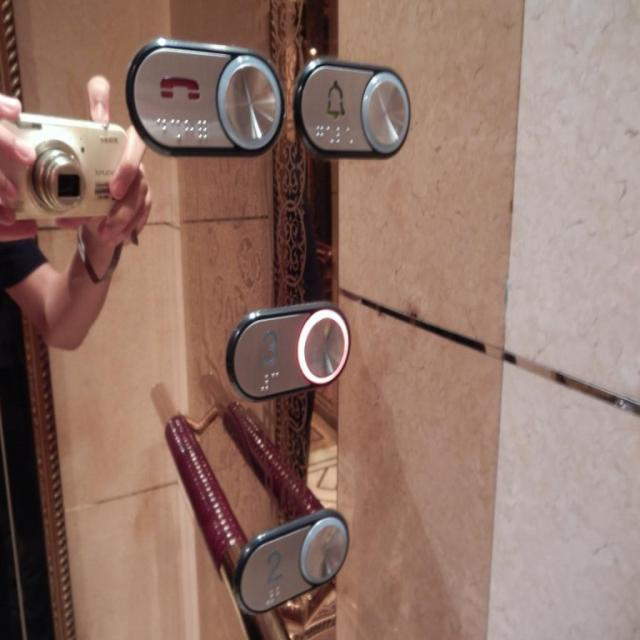2: (231, 508, 356, 619)
3: (220, 297, 354, 405)
alarm: (290, 47, 413, 161)
call: (121, 35, 285, 158)
